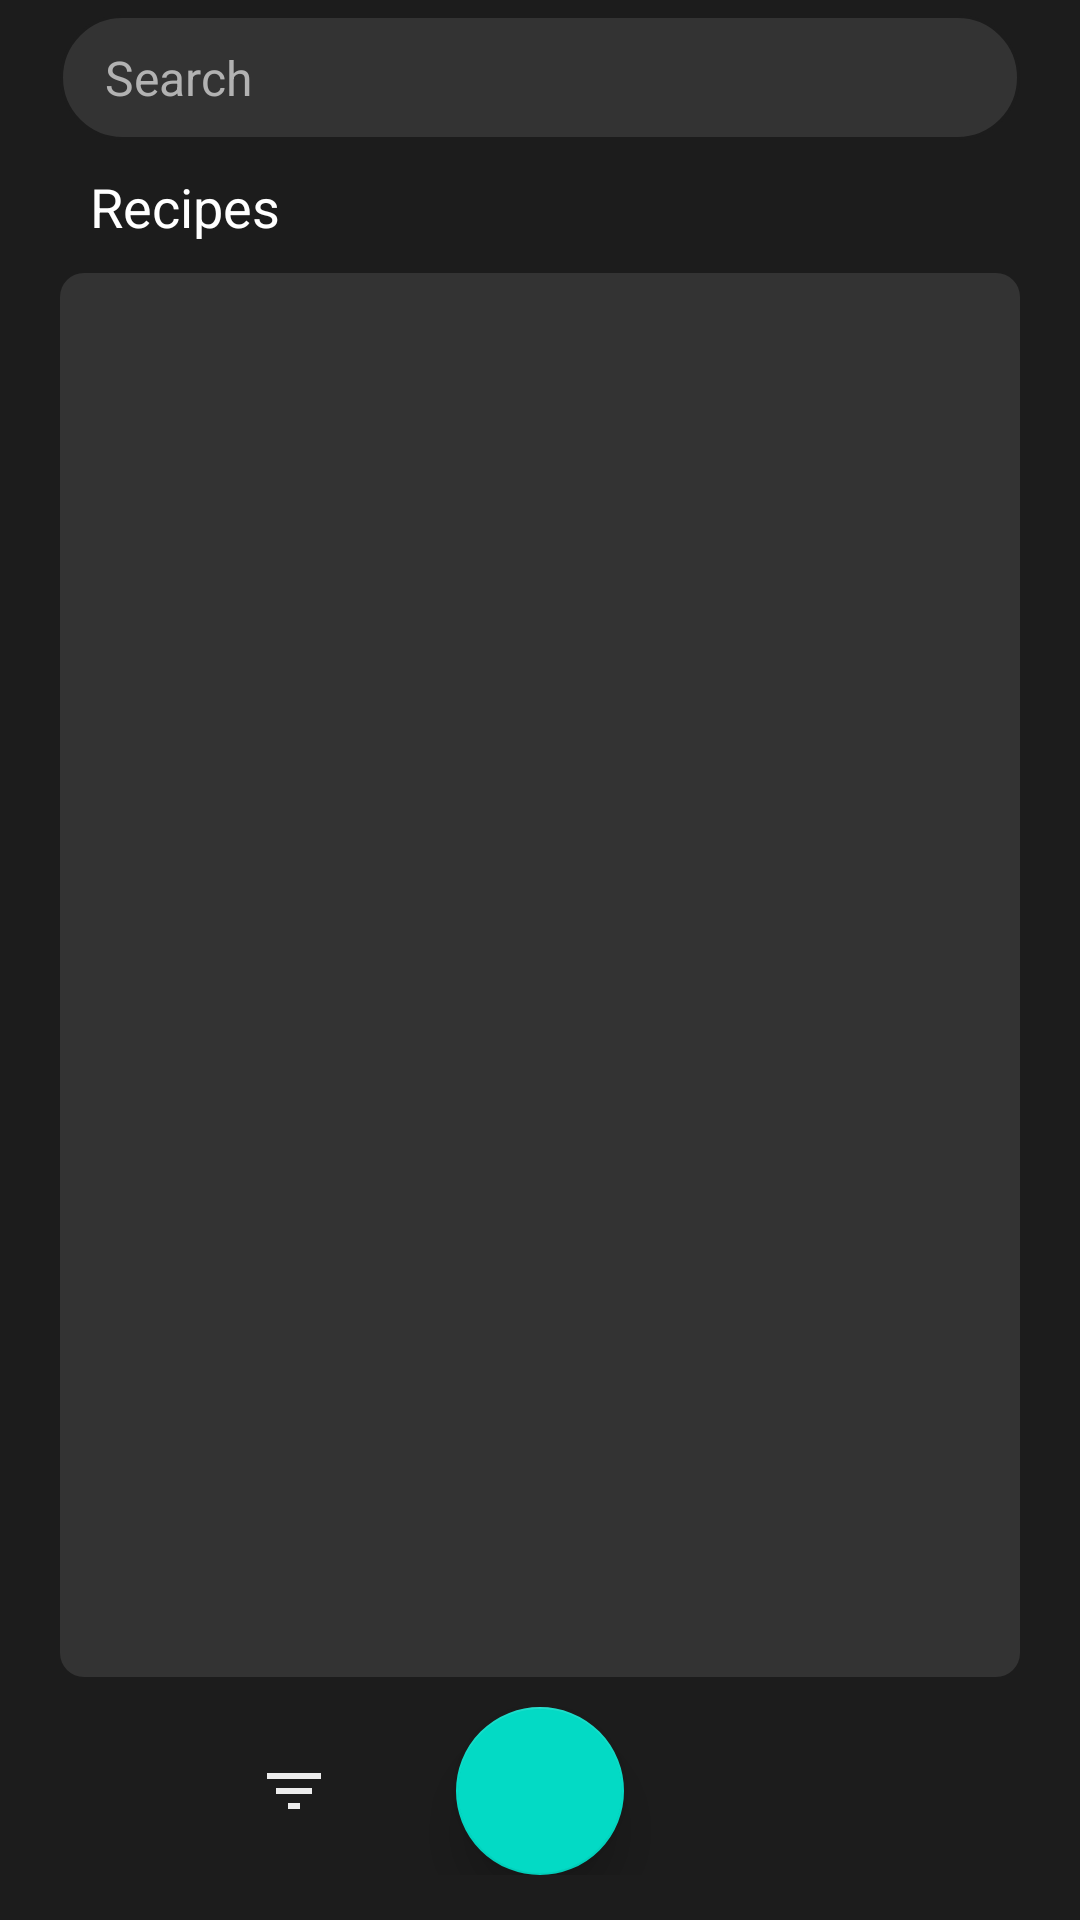

Where to tap for icons on this 1080 x 1920 app screen, as (x=x, y=y):
filter list: (x=294, y=1791)
